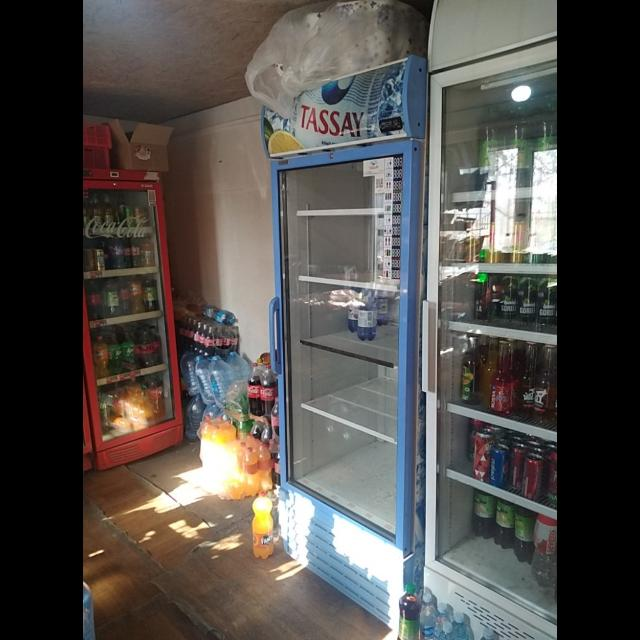Cooling-Display: (259, 52, 427, 636)
